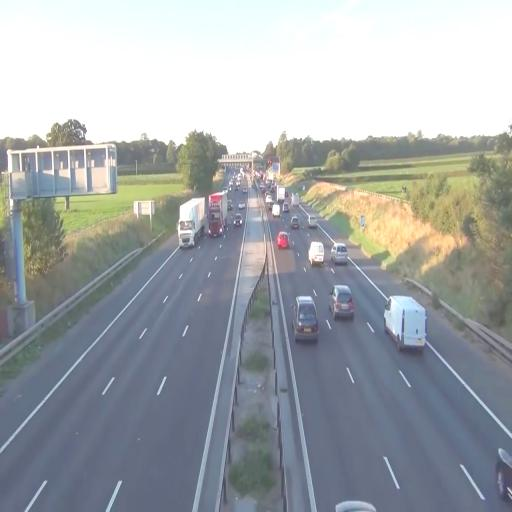vehicle: (384, 295, 426, 353), (177, 197, 206, 248), (178, 198, 206, 248), (293, 296, 319, 343), (331, 285, 355, 322), (207, 192, 226, 238), (308, 240, 325, 267), (331, 244, 349, 267), (276, 229, 290, 250), (289, 212, 301, 232), (232, 212, 245, 226)
